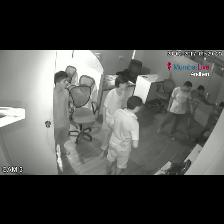person: (106, 96, 142, 174), (100, 76, 128, 158), (157, 81, 192, 140), (54, 71, 70, 155), (186, 86, 214, 133)
